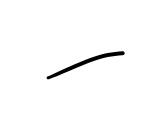minus: (47, 50, 125, 80)
